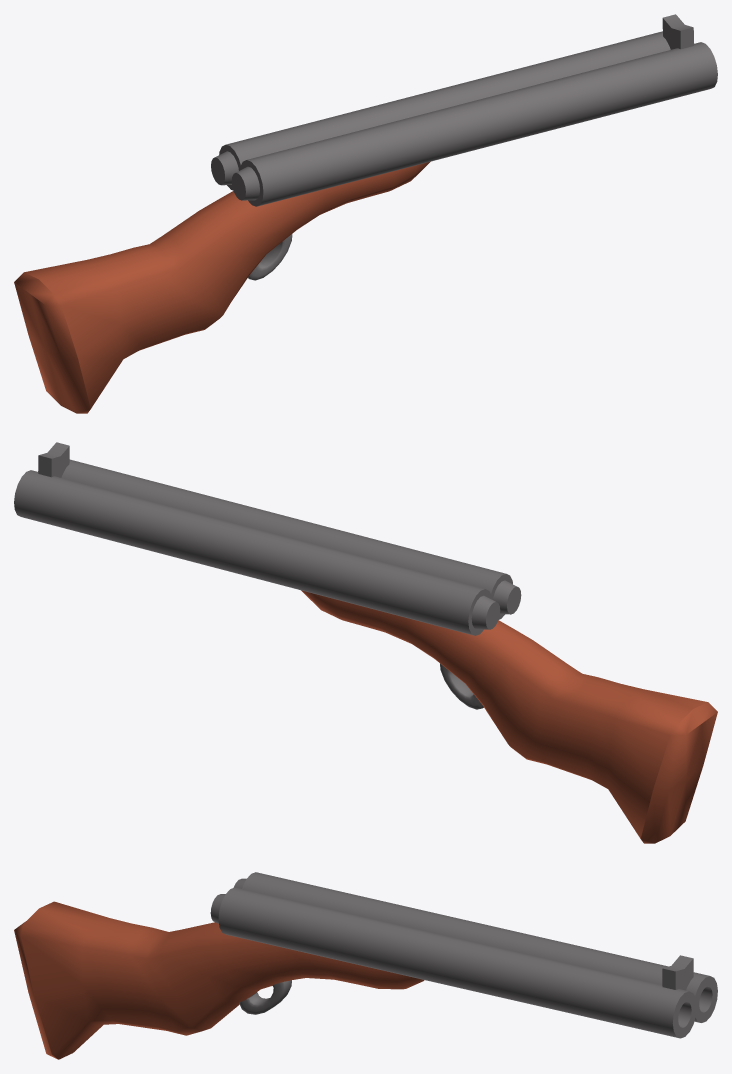
Rendered from Shotgun.fbx.
3 views of the same model, one above another, from view 1: azimuth 30°, elevation 25°; view 2: azimuth 150°, elevation 25°; view 3: azimuth 330°, elevation 25° (orthographic).
Visible parts, largest first — view 1: Shotgun; view 2: Shotgun; view 3: Shotgun.
Boxes of the visible parts, x1,y1,x2,y2 form: Shotgun: [14, 14, 717, 413]; Shotgun: [14, 442, 717, 843]; Shotgun: [14, 872, 717, 1059].
Size of the model in its own units: 399 by 136 by 47.29.
